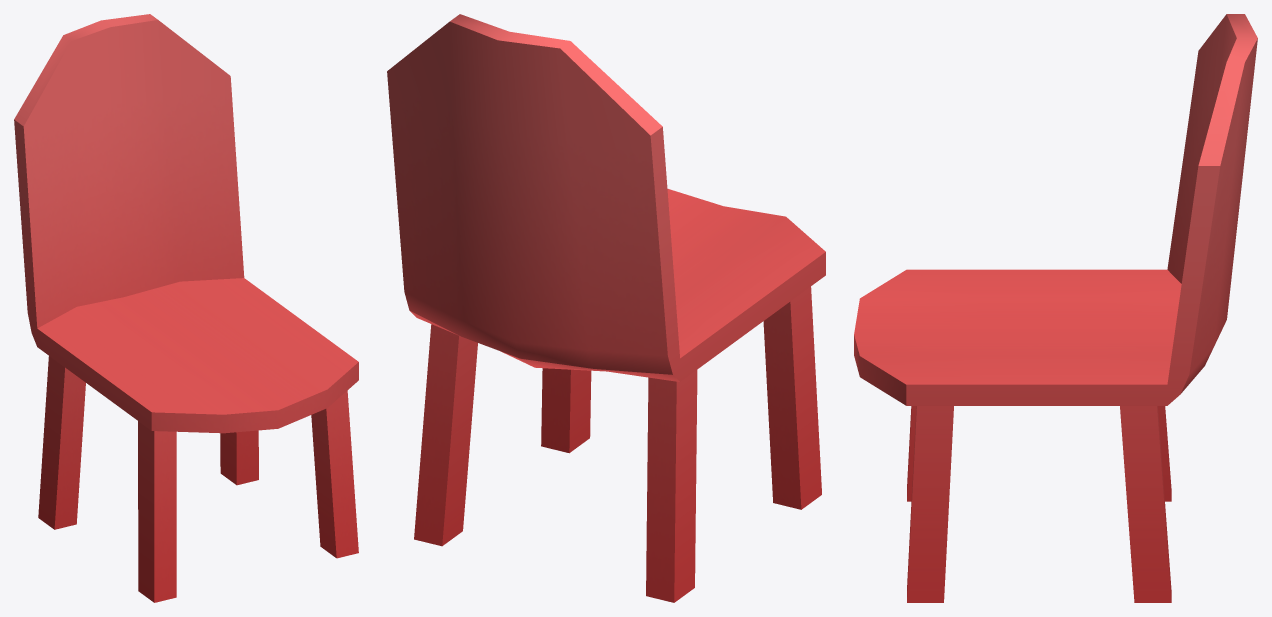
File: Prop_Chair01.fbx
3 renders of one model, left to right at view 1: azimuth 30°, elevation 25°; view 2: azimuth 150°, elevation 25°; view 3: azimuth 270°, elevation 25°, orthographic. The views are drawn at different scales.
Parts seen in each view (by area): view 1: prop_chair02; view 2: prop_chair02; view 3: prop_chair02.
Part boxes in pixels (x1=…): prop_chair02: x1=14, y1=14, x2=358, y2=602; prop_chair02: x1=387, y1=14, x2=825, y2=602; prop_chair02: x1=854, y1=14, x2=1257, y2=602.
Bounding box in the file's own units: 180 × 370 × 267.
